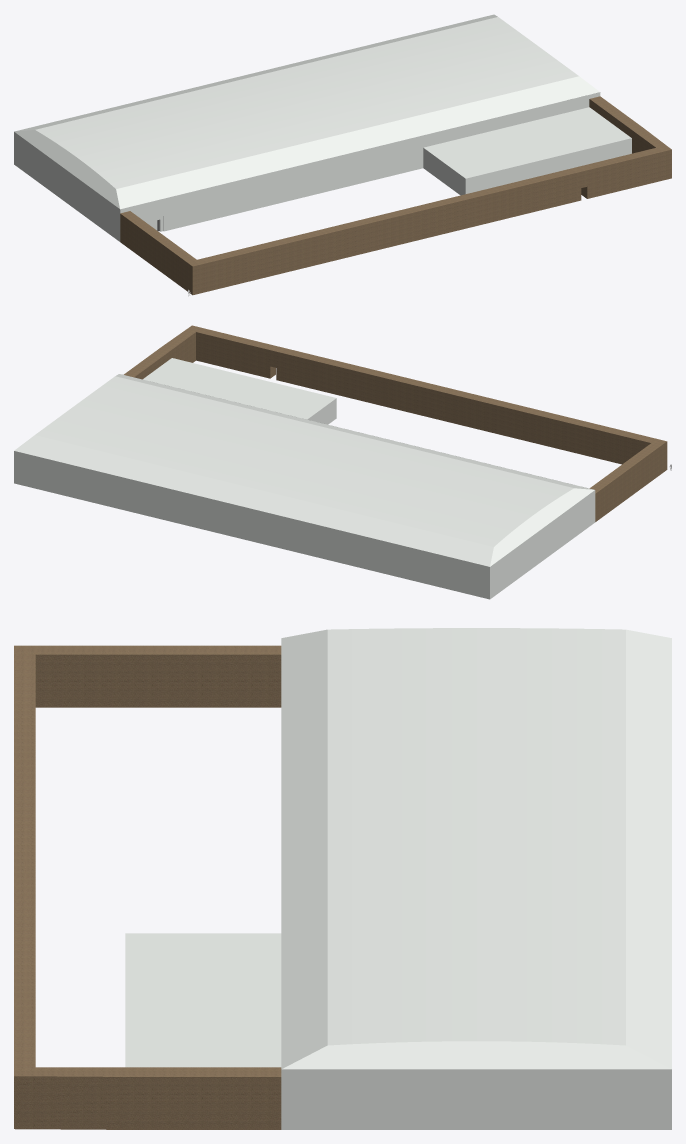
The model's file is Hetepsekhemwy_v1.obj.
3 views of the same model, one above another, from view 1: azimuth 30°, elevation 25°; view 2: azimuth 150°, elevation 25°; view 3: azimuth 270°, elevation 25° (orthographic). The views are drawn at different scales.
Visible parts, largest first — view 1: Mesh1 Component_1_1 Model, Mesh2 Model; view 2: Mesh1 Component_1_1 Model, Mesh2 Model; view 3: Mesh1 Component_1_1 Model, Mesh2 Model.
Boxes of the visible parts, x1,y1,x2,y2 form: Mesh1 Component_1_1 Model: [14, 14, 599, 209]; Mesh2 Model: [14, 92, 671, 295]; Mesh1 Component_1_1 Model: [14, 374, 594, 566]; Mesh2 Model: [14, 325, 667, 599]; Mesh1 Component_1_1 Model: [281, 628, 671, 1069]; Mesh2 Model: [14, 645, 671, 1129].
Size of the model in its own units: 123 by 10.53 by 78.8.
5 materials, 3 textured.
